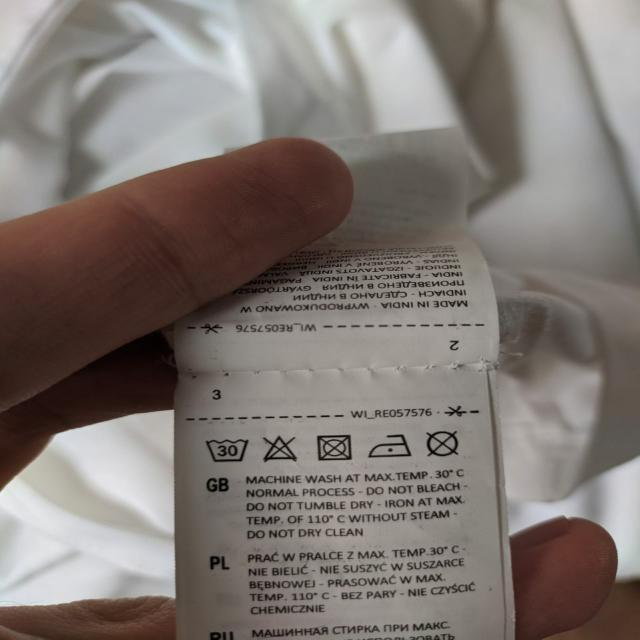30C: (207, 430, 250, 466)
DN_bleach: (261, 429, 297, 464)
DN_dry_clean: (423, 427, 463, 458)
DN_tumble_dry: (313, 432, 354, 463)
iron_low: (366, 432, 413, 460)
